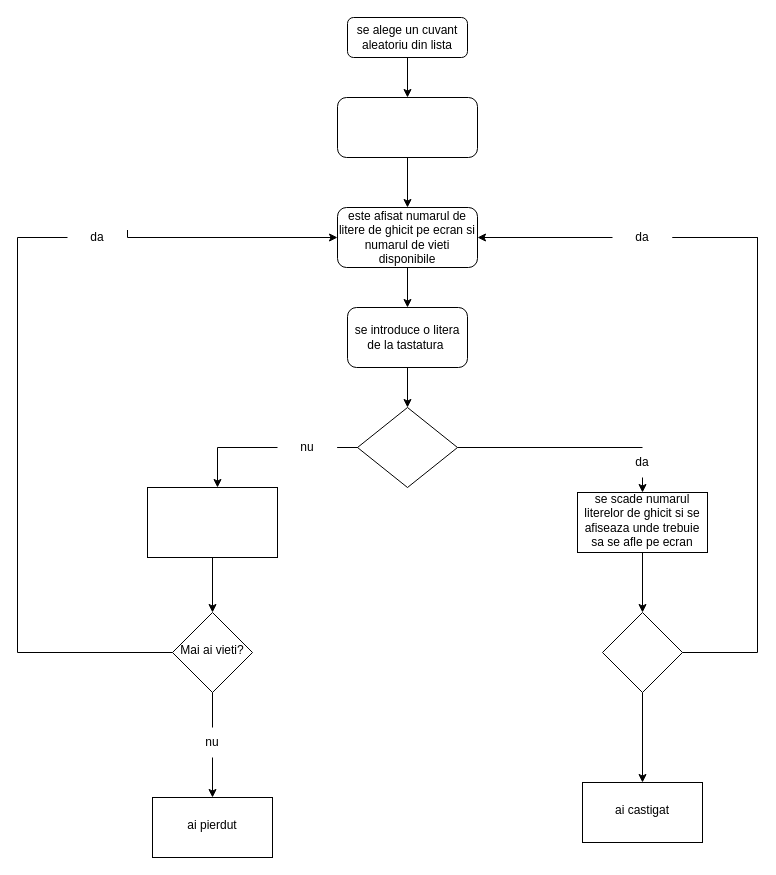
The diagram is 776 pixels wide and 875 high, and some of its shapes have lost their labels. Here are the shapes that lost their labels. From the top down, the centre of each, then its label:
the point at 407,127: se imparte cuvantul in litere si acestea sunt puse ca elemente separate in lista
the point at 407,447: este in lista de litere?
the point at 212,522: se scade numarul vietilor si se deseneaza urmatorul element
the point at 642,652: mai sunt litere neghicite?
